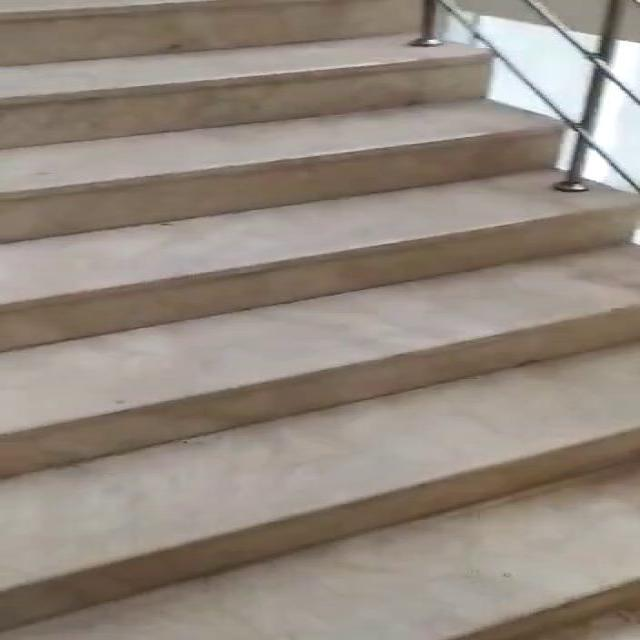stair: (1, 12, 630, 640)
